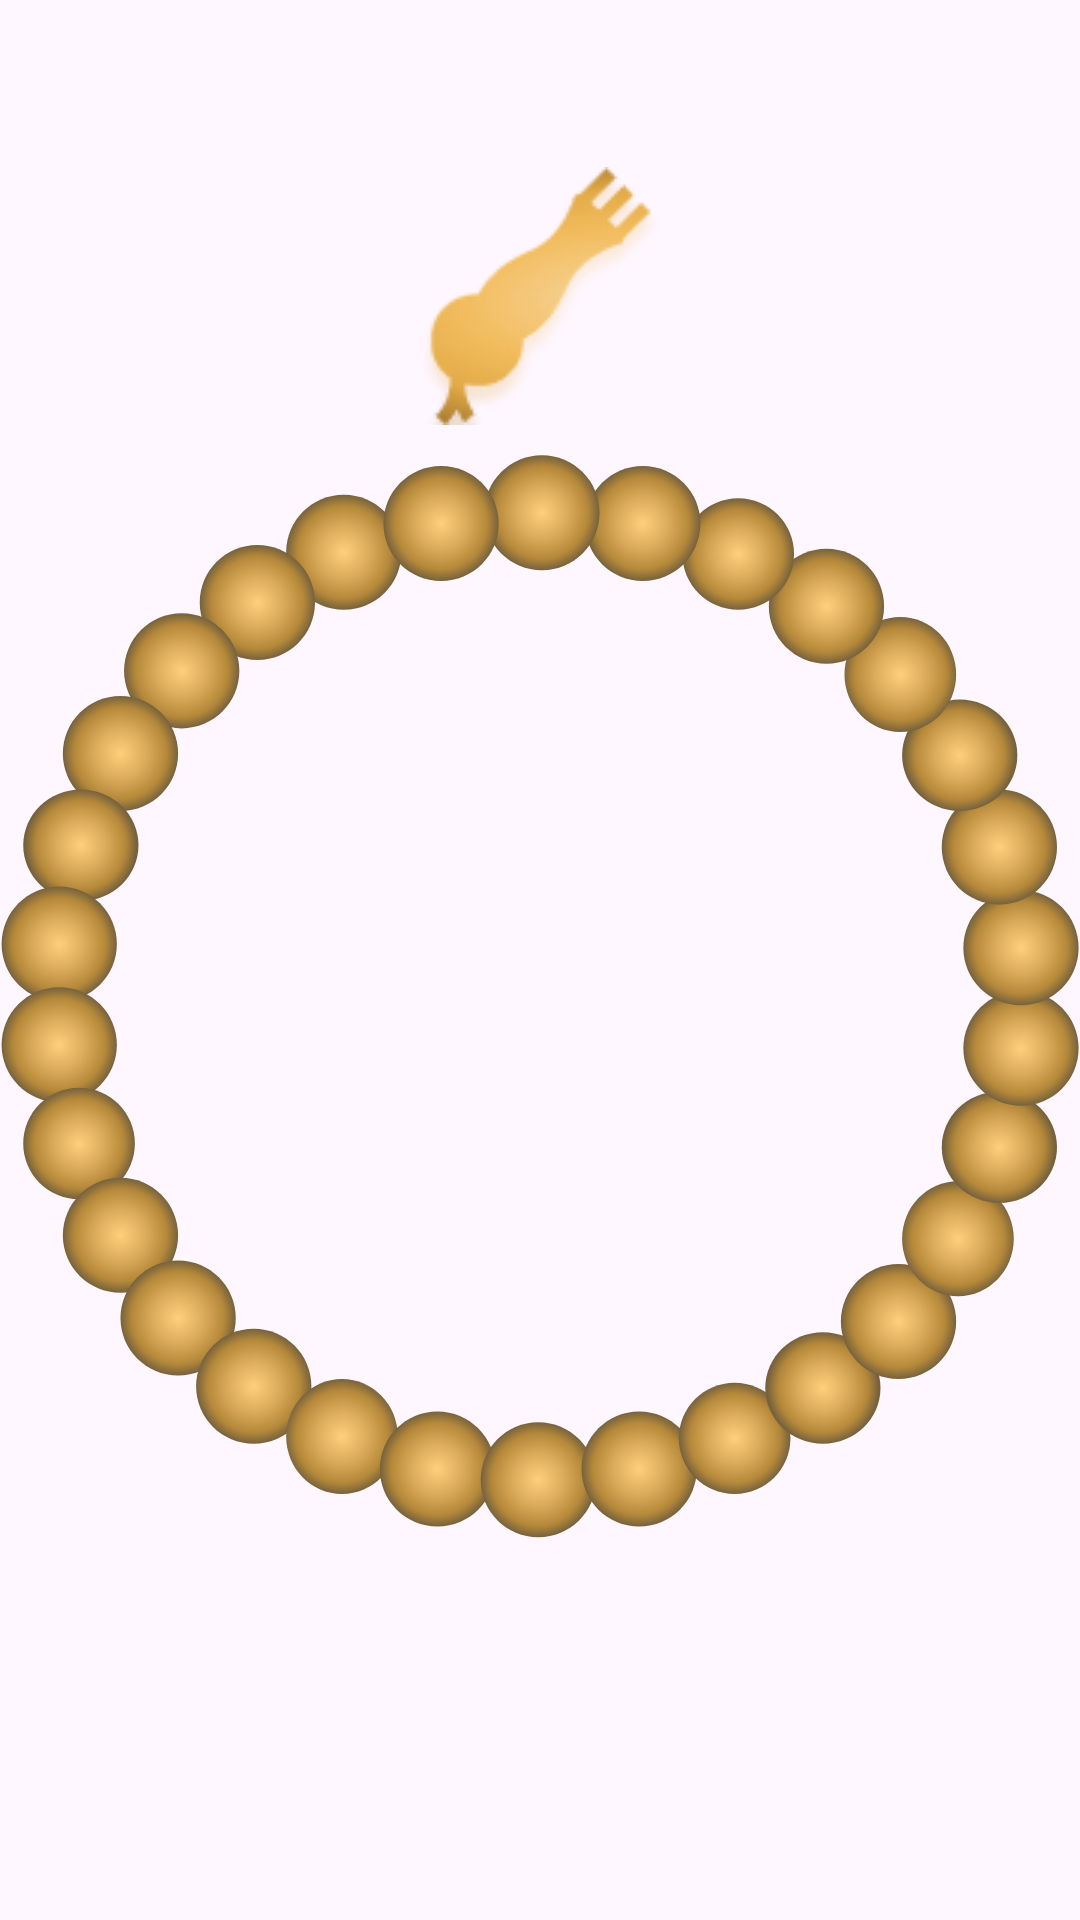

Named icons in this screenshot (1080*1920) and their bounding boxes, {"x1": x1, "y1": y1, "x2": x2, "y2": y2}:
sebha head: {"x1": 430, "y1": 167, "x2": 651, "y2": 425}
